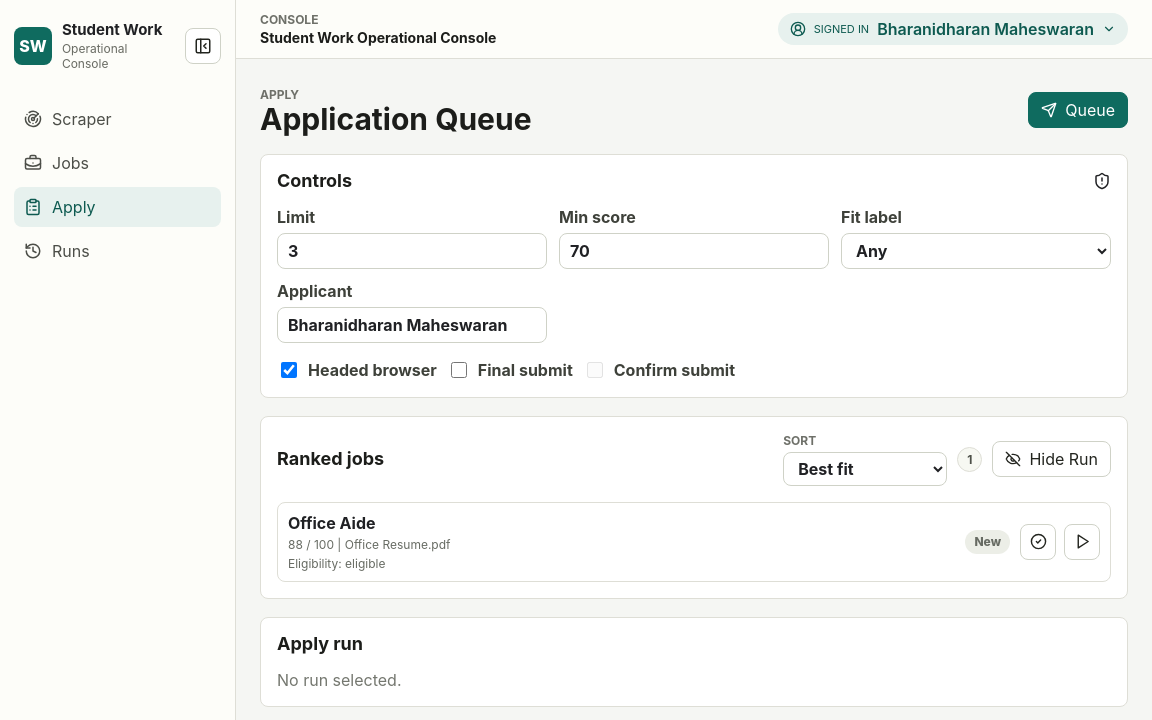
Test: ApplyPage auth prompts › keeps signed-in topbar simple and opens validation from the user menu
The width and height of the screenshot is (1152, 720).
Click the button with aria-label "signed in as bharanidharan maheswaran": x=953, y=29 [778,13,1128,45]
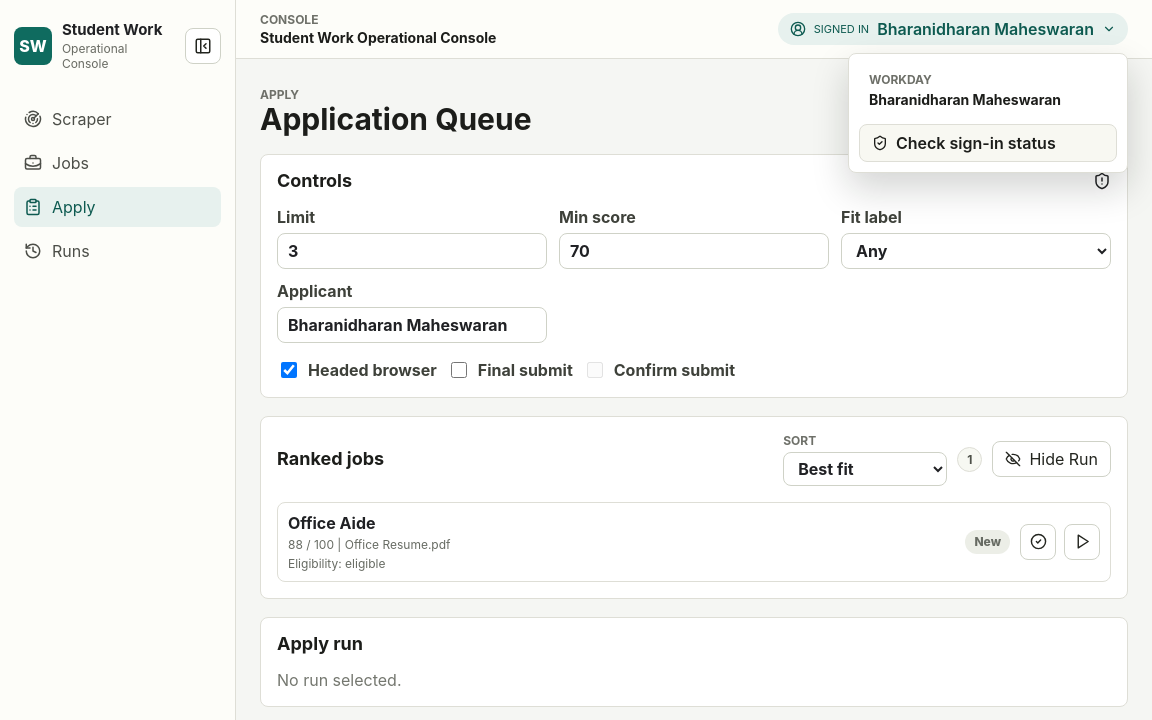
expect the menu named "workday account" is shown: met, box [848,53,1128,173]
expect the menu item "Check sign-in status" is shown: met, box [859,124,1117,162]
